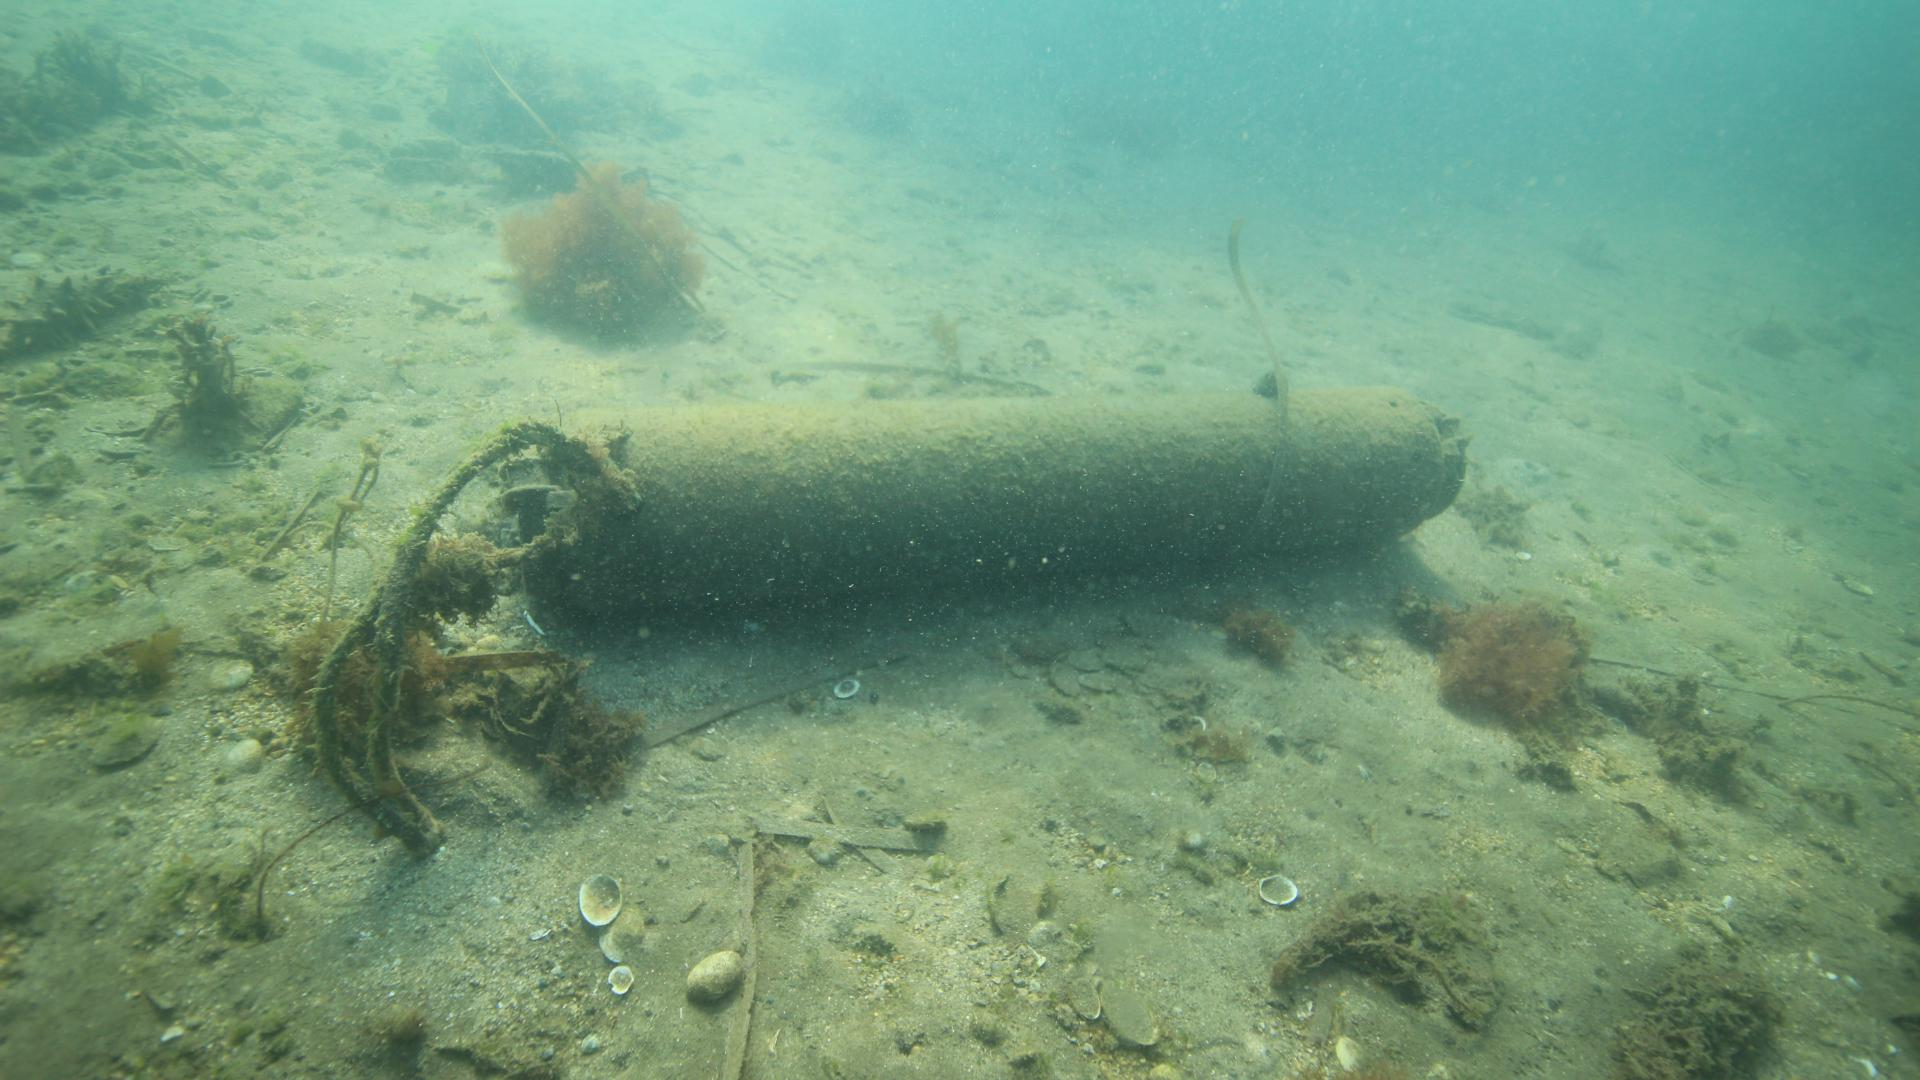bundle of ropes: (313, 417, 636, 858)
eel fish trap: (527, 382, 1469, 618)
